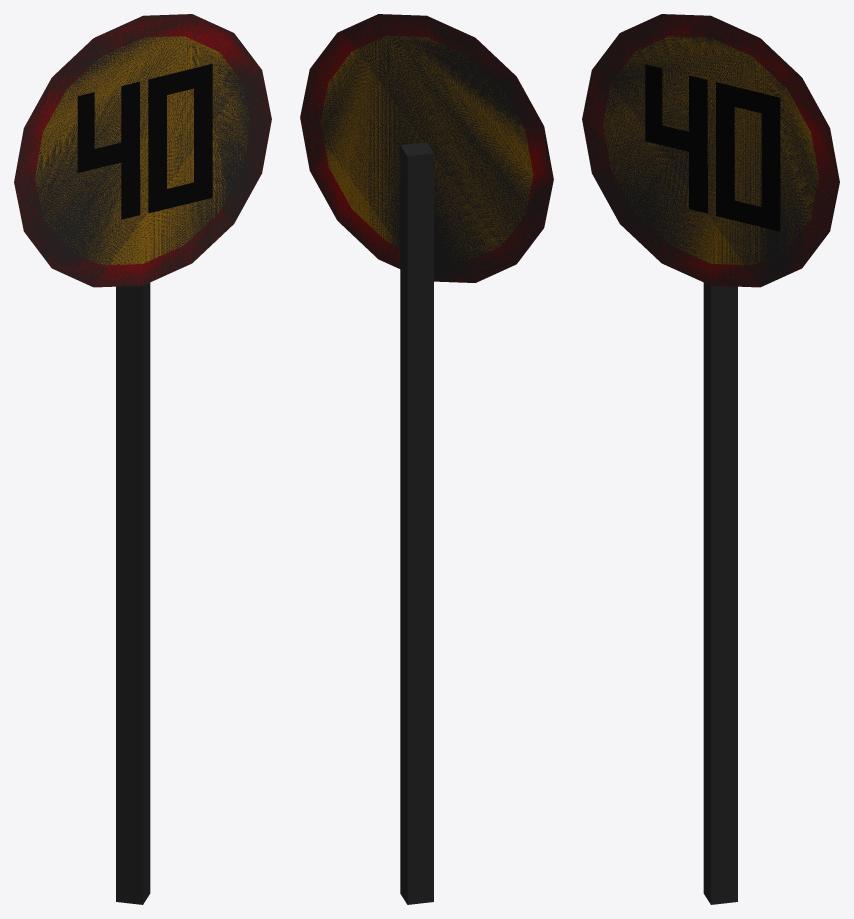
Rendered from 40kmh.obj.
3 renders of one model, left to right at view 1: azimuth 30°, elevation 25°; view 2: azimuth 150°, elevation 25°; view 3: azimuth 330°, elevation 25°, orthographic.
Parts seen in each view (by area): view 1: Cylinder.001; view 2: Cylinder.001; view 3: Cylinder.001.
Part boxes in pixels (x1=…): Cylinder.001: x1=14, y1=14, x2=271, y2=904; Cylinder.001: x1=300, y1=14, x2=553, y2=904; Cylinder.001: x1=582, y1=14, x2=839, y2=904.
Size of the model in its own units: 0.8957 by 2.95 by 0.1199.
